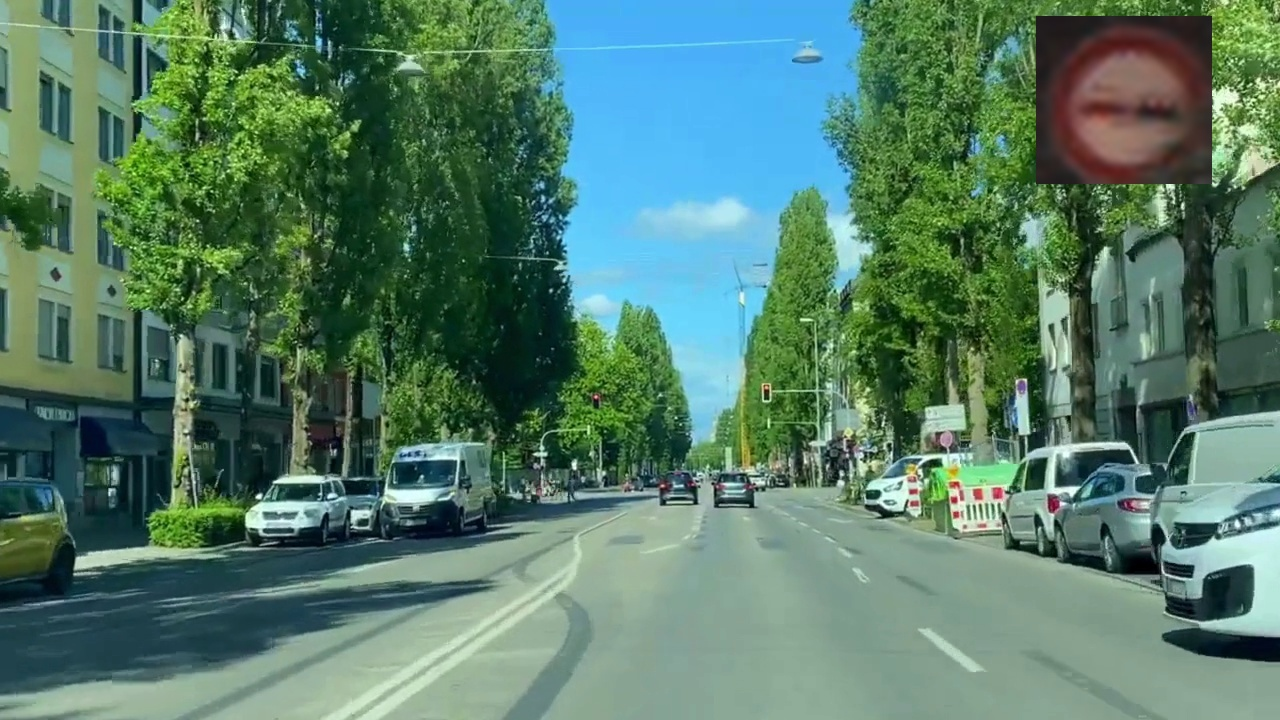No passing: (1036, 16, 1212, 184)
